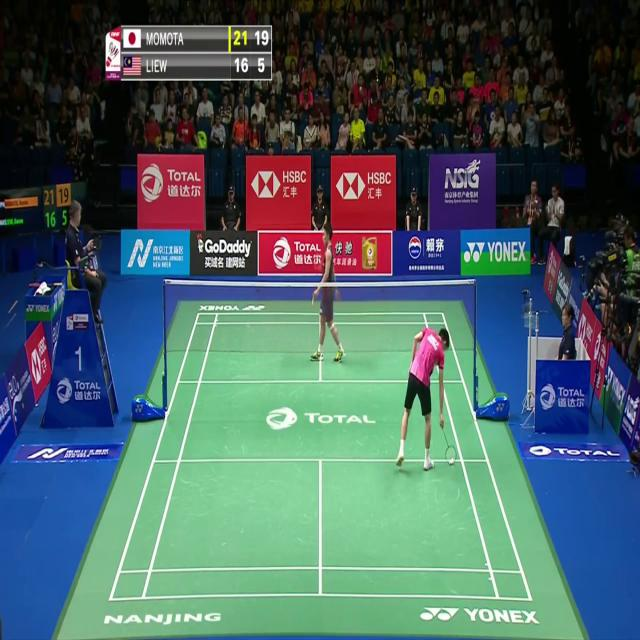Shuttlecock: (448, 456, 455, 467)
